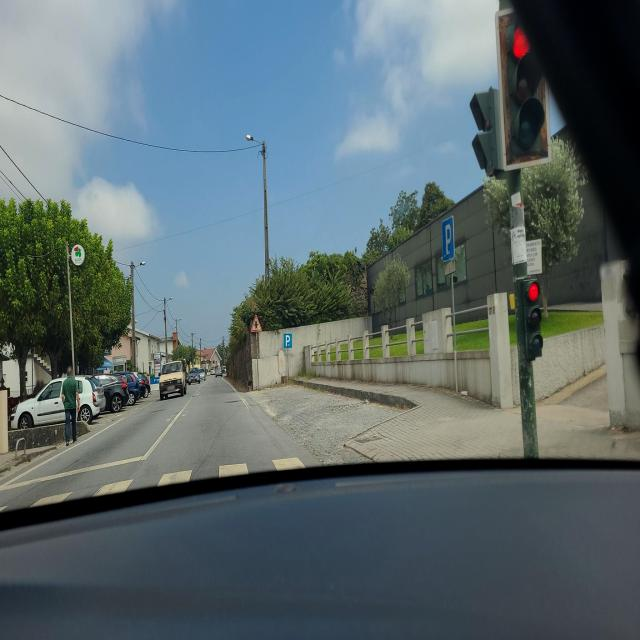car: (8, 376, 103, 433), (93, 374, 127, 412), (159, 361, 186, 399), (115, 371, 140, 404), (130, 370, 150, 398), (188, 366, 201, 384), (200, 366, 207, 376)
